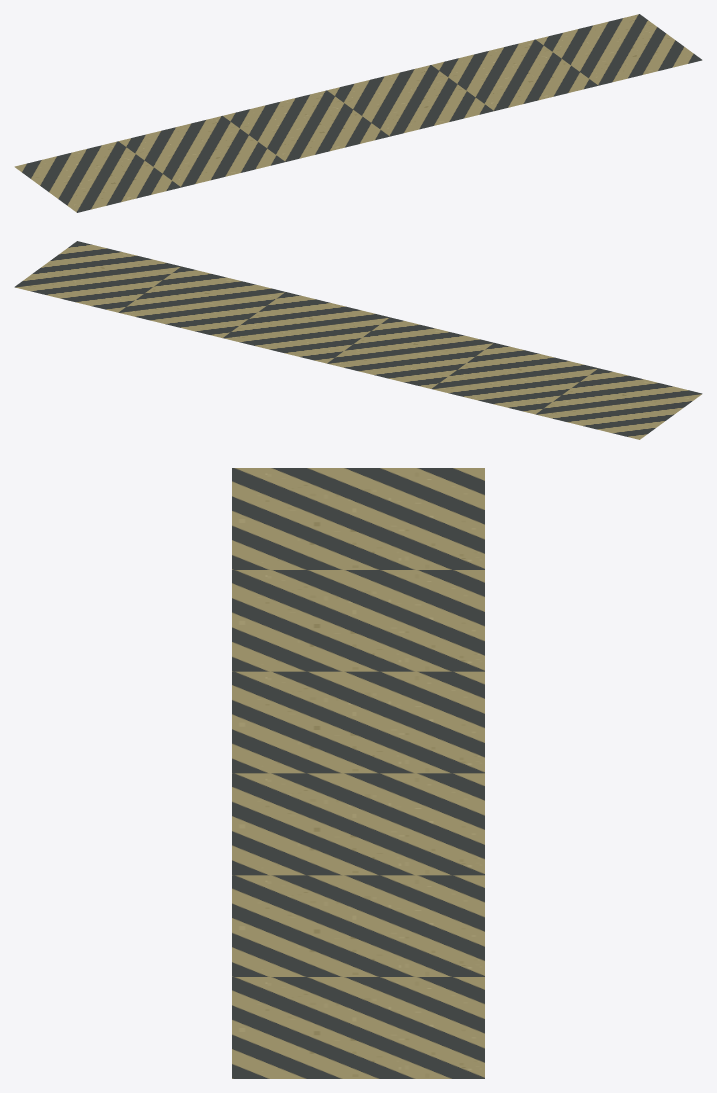
Rendered from HazardStrip4m.fbx.
3 views of the same model, one above another, from view 1: azimuth 30°, elevation 25°; view 2: azimuth 150°, elevation 25°; view 3: azimuth 270°, elevation 25° (orthographic). The views are drawn at different scales.
Visible parts, largest first — view 1: HazardStrip4m; view 2: HazardStrip4m; view 3: HazardStrip4m.
Part boxes in pixels (bbox=[...]): HazardStrip4m: bbox=[14, 14, 702, 212]; HazardStrip4m: bbox=[14, 241, 702, 439]; HazardStrip4m: bbox=[232, 468, 484, 1078].
Bounding box in the file's own units: 400 × 0 × 70.
